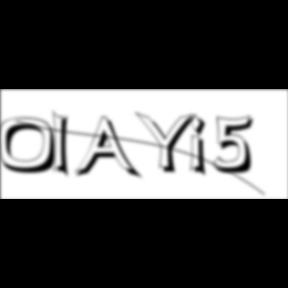5: (212, 114, 260, 176)
A: (74, 116, 144, 182)
O: (0, 117, 64, 176)
Y: (135, 110, 202, 176)
i: (190, 112, 214, 180)
l: (52, 108, 76, 182)
